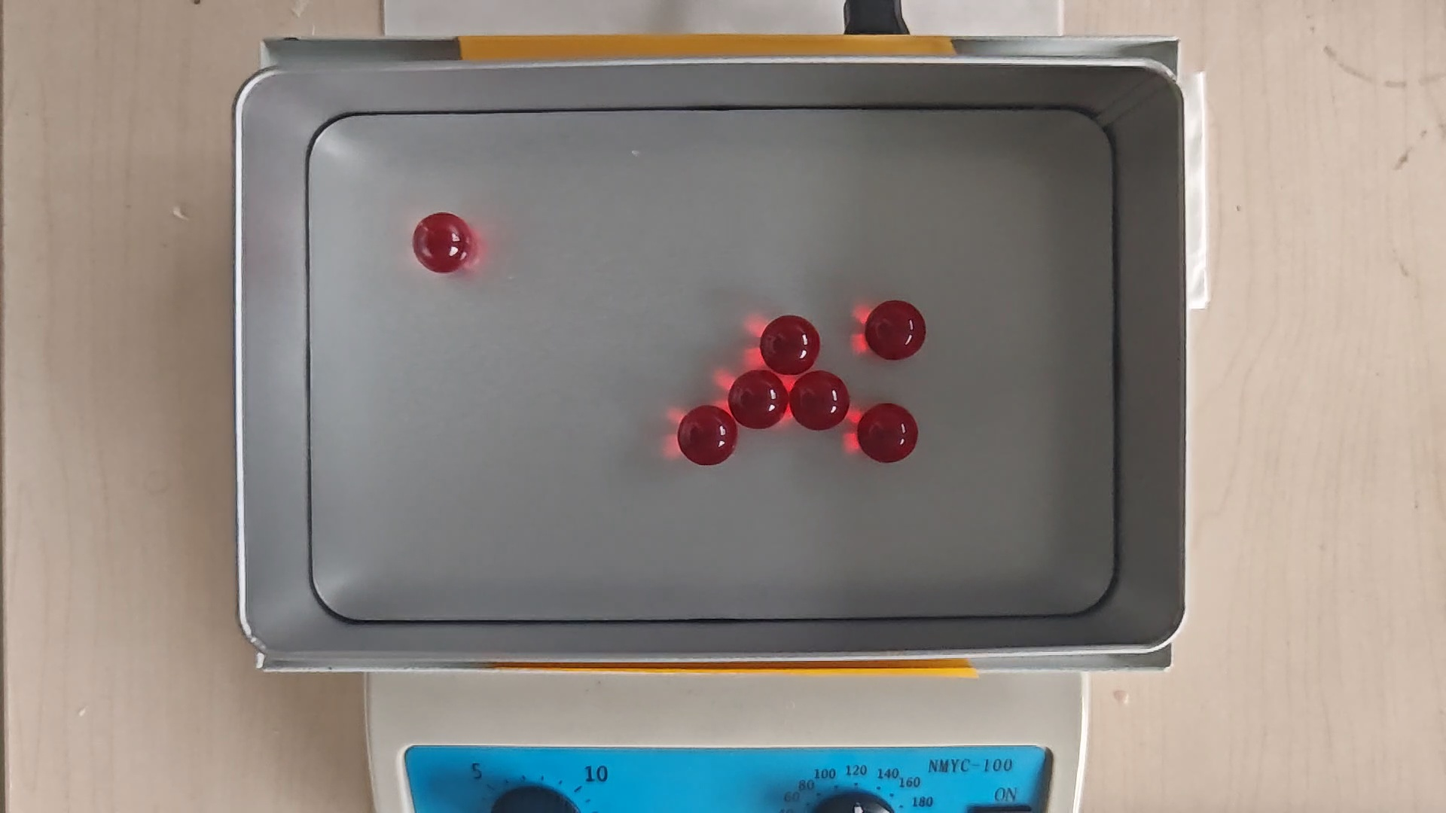ball: (411, 212, 474, 274), (856, 402, 919, 464), (676, 404, 738, 466), (759, 313, 822, 374), (790, 370, 850, 434), (864, 300, 926, 361), (728, 370, 788, 431)
container: (309, 108, 1116, 617)
